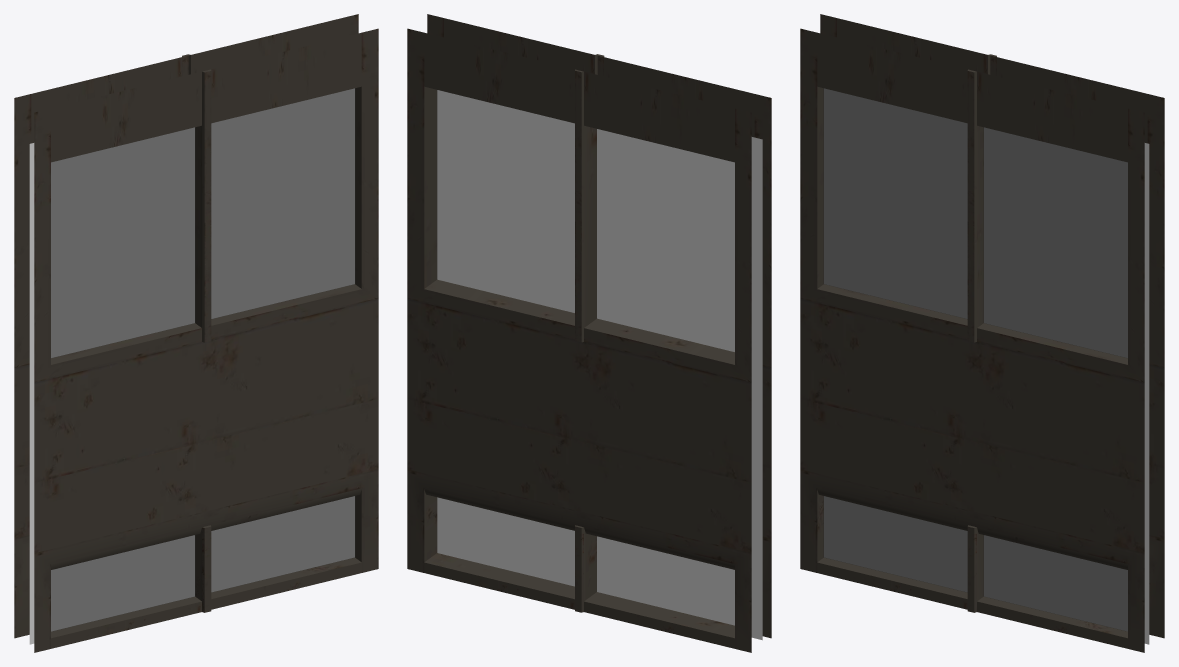
The model's file is Metal_Window_Half.glb.
3 renders of one model, left to right at view 1: azimuth 30°, elevation 25°; view 2: azimuth 150°, elevation 25°; view 3: azimuth 330°, elevation 25°, orthographic.
Parts seen in each view (by area): view 1: Metal_Window_Half; view 2: Metal_Window_Half; view 3: Metal_Window_Half.
Part boxes in pixels (x1=…): Metal_Window_Half: x1=14, y1=14, x2=378, y2=652; Metal_Window_Half: x1=407, y1=14, x2=771, y2=652; Metal_Window_Half: x1=800, y1=14, x2=1164, y2=652.
Size of the model in its own units: 2 by 3 by 0.2287.
Materials: 3 (1 with a texture image).
